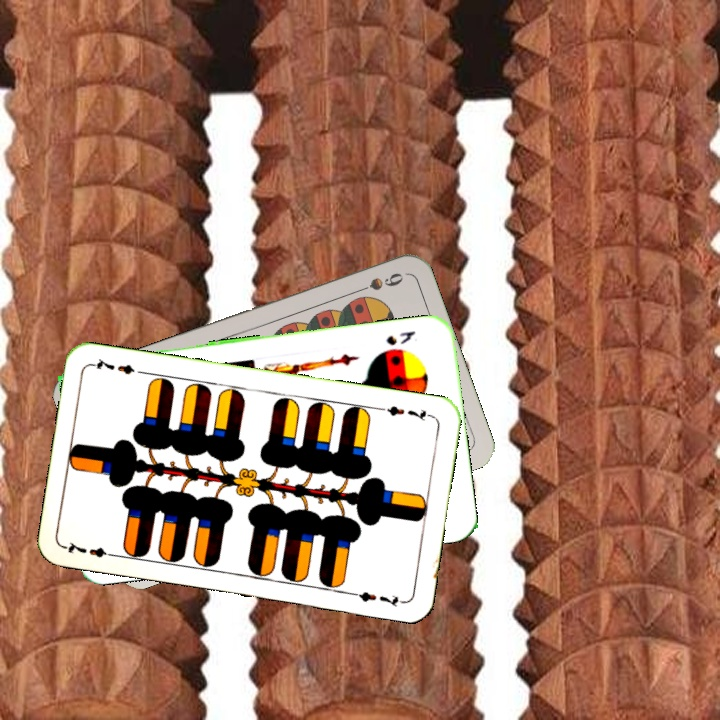E7: (62, 538, 120, 561), (376, 402, 435, 424)
S9: (349, 268, 406, 297)
SK: (382, 327, 418, 348)
